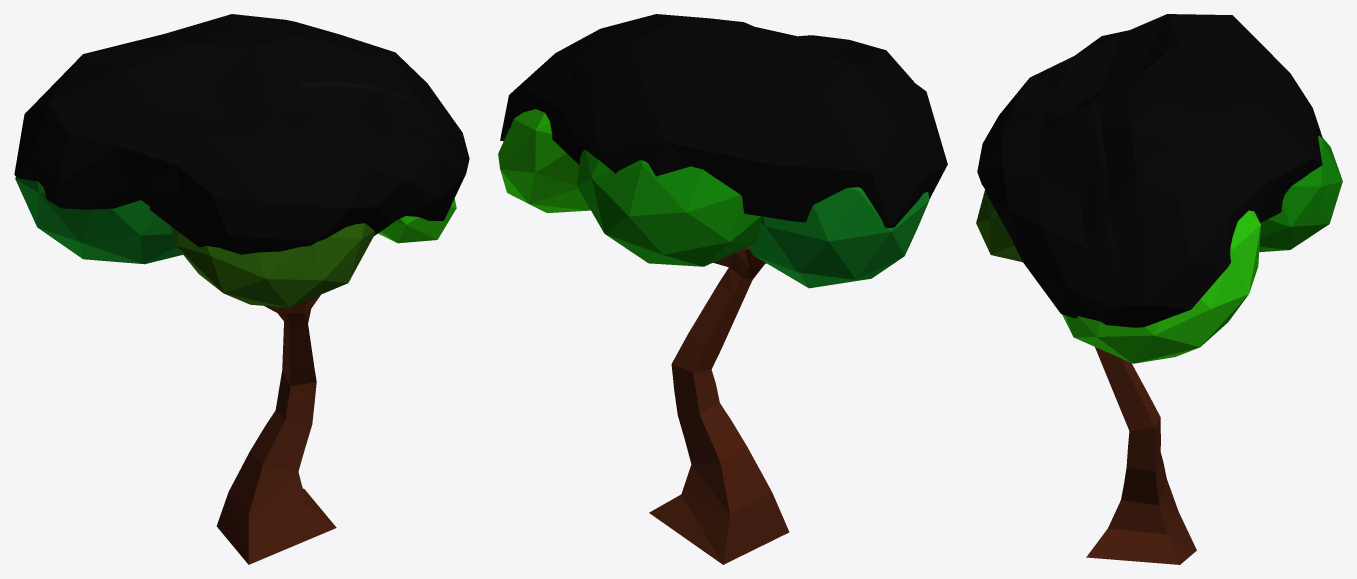
File: SnowTree3.fbx
The picture shows the model from 3 angles, left to right: view 1: azimuth 30°, elevation 25°; view 2: azimuth 150°, elevation 25°; view 3: azimuth 270°, elevation 25°; orthographic projection. The views are drawn at different scales.
Visible parts, largest first — view 1: snowtree3; view 2: snowtree3; view 3: snowtree3.
Part boxes in pixels (x1,y1,x2,y2): snowtree3: (14, 14, 469, 564); snowtree3: (498, 14, 947, 564); snowtree3: (976, 14, 1342, 564).
Size of the model in its own units: 683 by 793 by 538.
